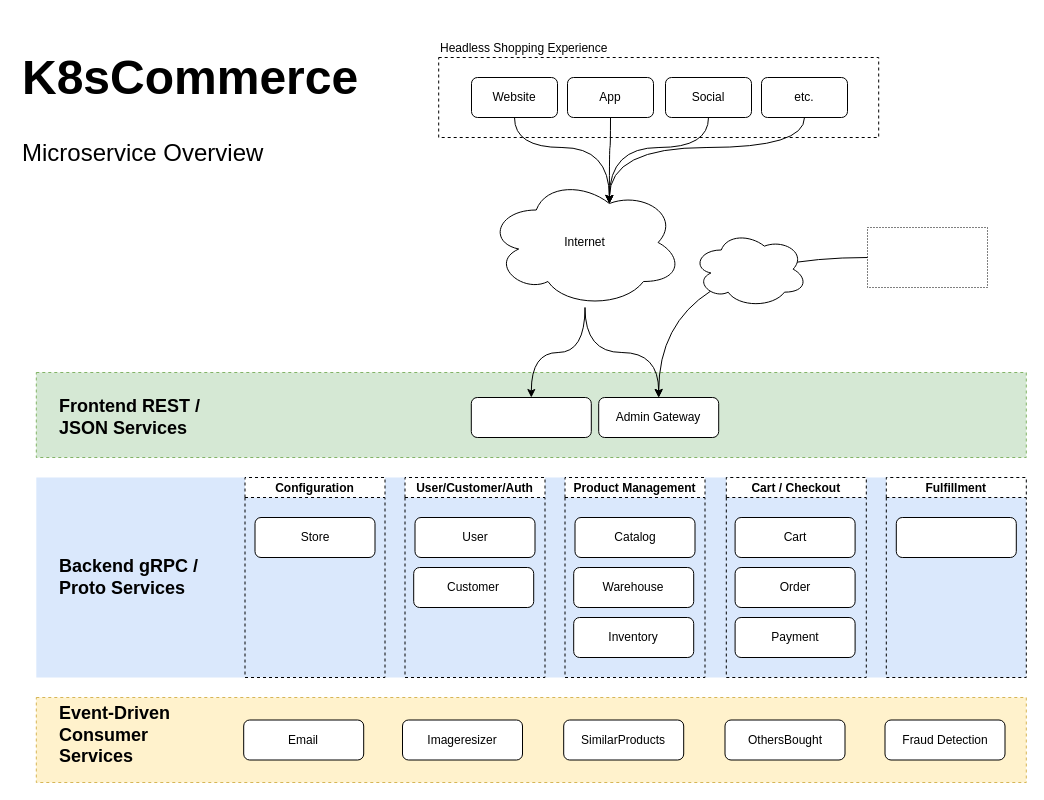
Some shapes in this 1044 by 800 pixel diagram are drawn without their labels. Here are the shapes that lost their labels. From the top down, the centre of each, then its label:
At (750,269): "VPN / Intranet".
At (927,257): "Administration App".
At (530,417): "Client Gateway".
At (955,537): "Shipping".
